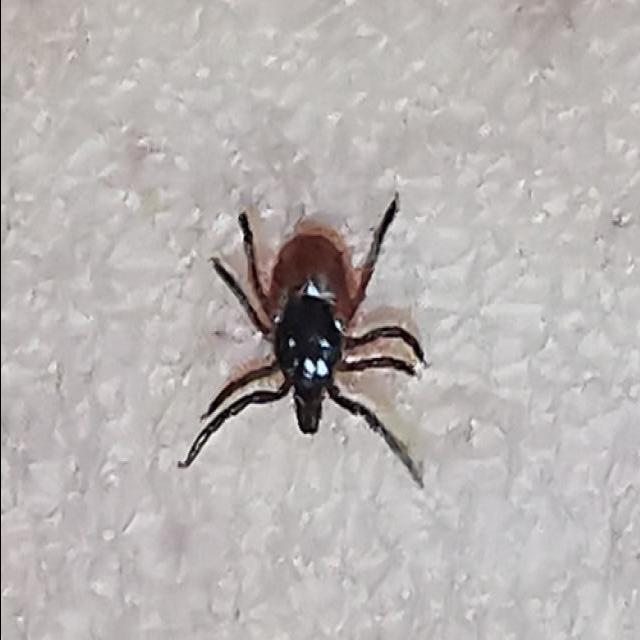Ixodes Ricinus-F: (178, 196, 425, 490)
